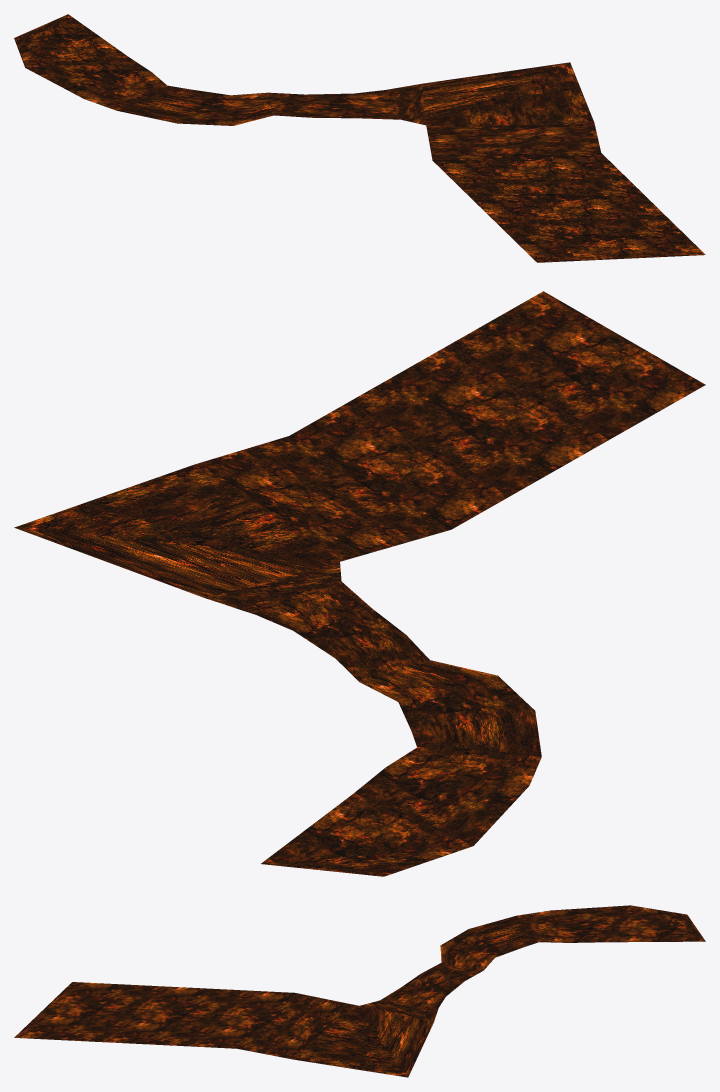
The model's file is water01.fbx.
The picture shows the model from 3 angles, top to bottom: view 1: azimuth 30°, elevation 25°; view 2: azimuth 150°, elevation 25°; view 3: azimuth 270°, elevation 25°; orthographic projection. The views are drawn at different scales.
Visible parts, largest first — view 1: water1; view 2: water1; view 3: water1.
Boxes of the visible parts, <box> form: water1: <box>14,14,705,262</box>; water1: <box>14,291,705,876</box>; water1: <box>14,905,705,1077</box>.
Bounding box in the file's own units: 7691 × 0.0811 × 13057.
